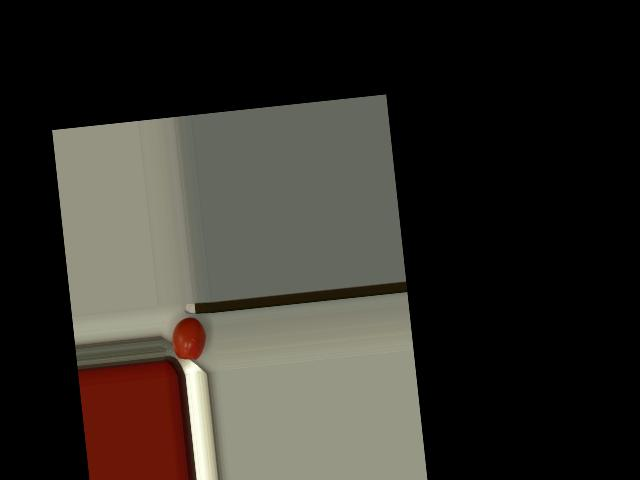tomato: (169, 316, 208, 362)
